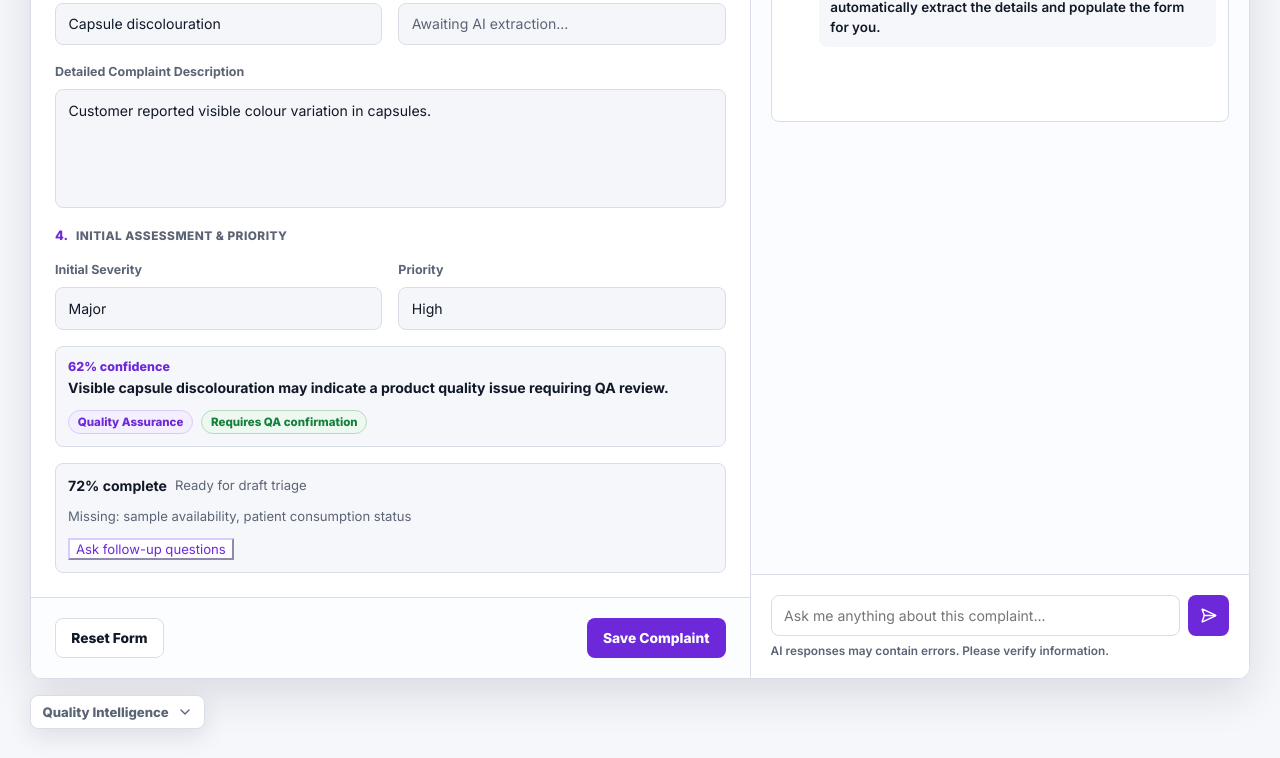
Test case: App › containment simulator opens from Batch Intelligence and stays simulation-only
(page scrolled)
Click the button "Quality Intelligence".
click(118, 712)  # box [30,694,205,729]
(page scrolled)
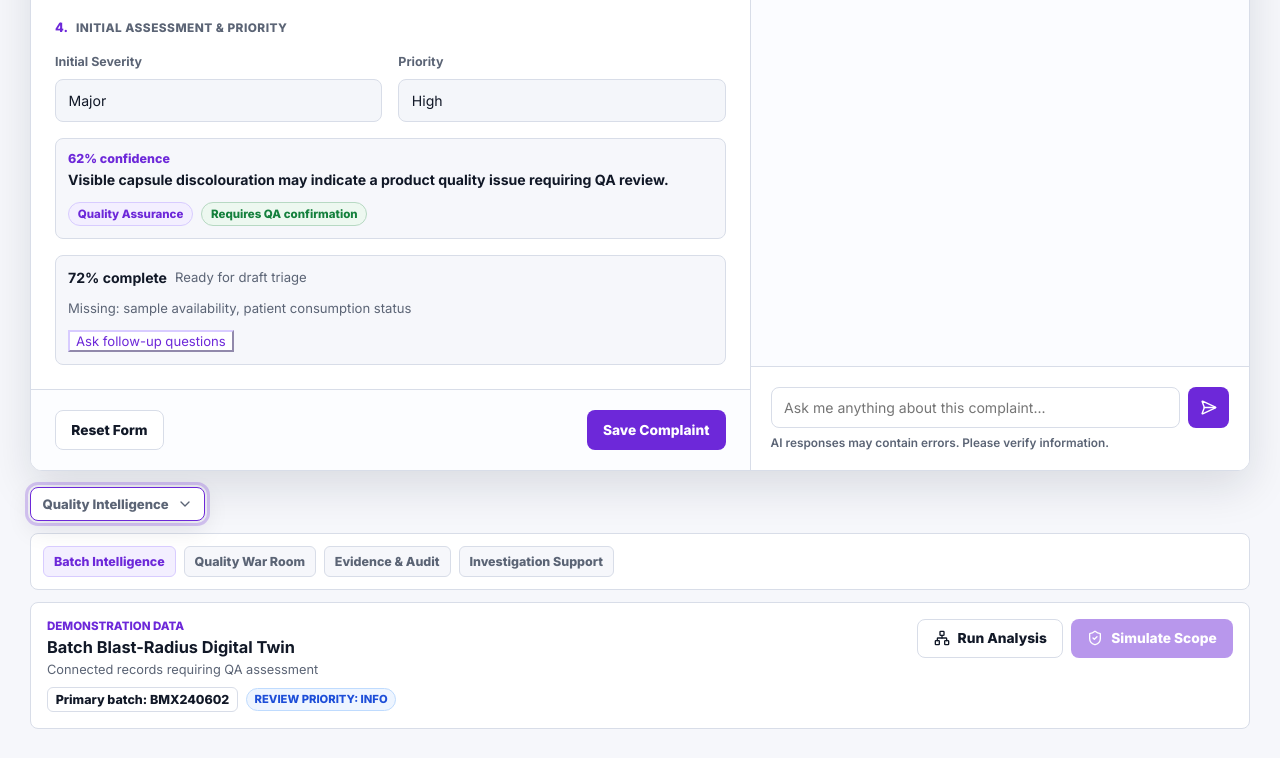
Click the button "Run Analysis".
click(990, 638)  # box [917,619,1063,658]
(page scrolled)
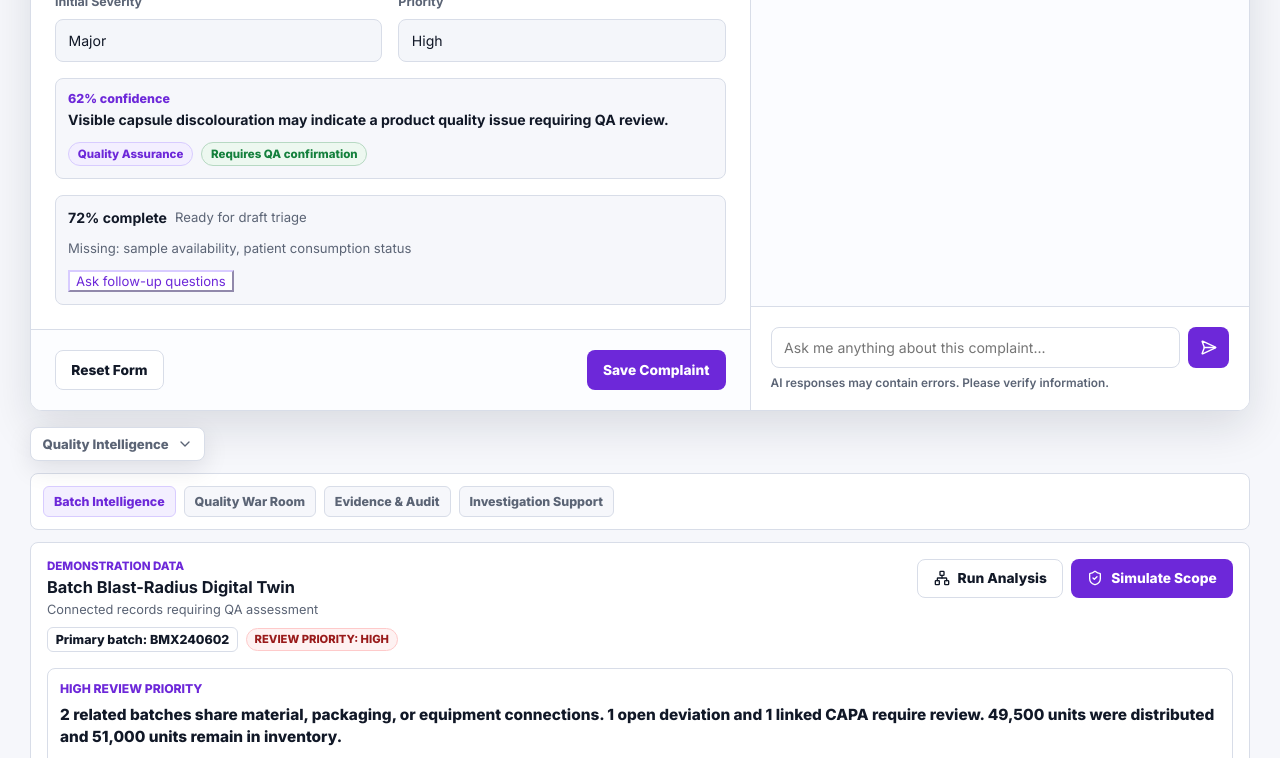
Click the button "Simulate Scope".
click(1152, 578)  # box [1071,559,1233,598]
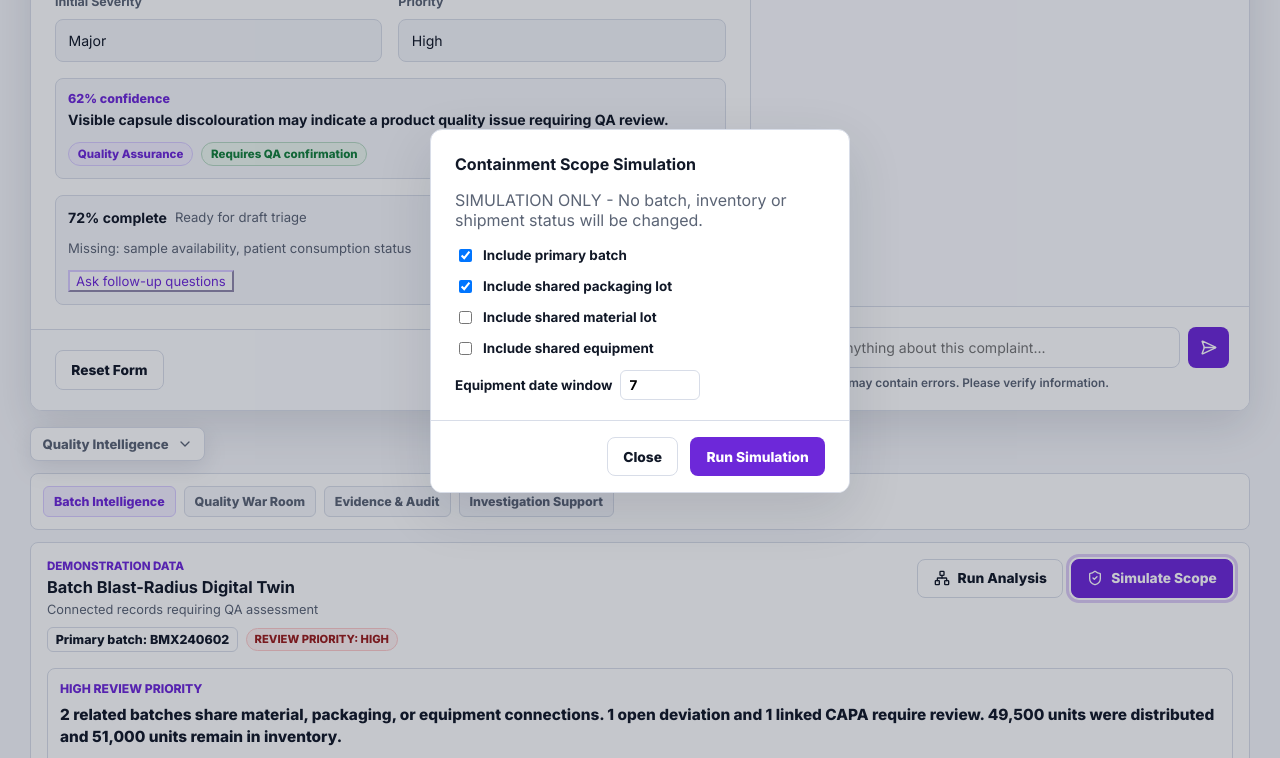
Check: the dialog "Containment Scope Simulation" shows "SIMULATION ONLY", box [455,190,787,230]
Click the button "Run Simulation".
click(758, 457)  # box [690,437,825,476]
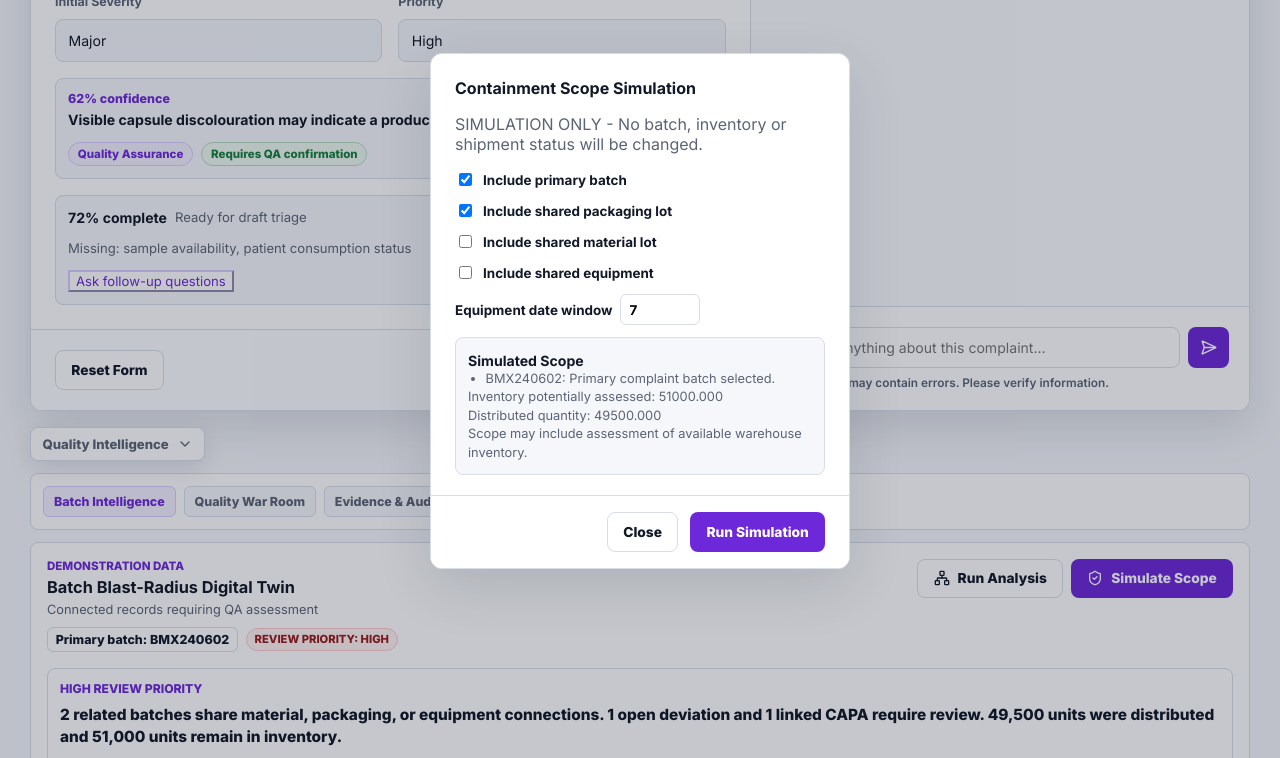
Check: the element with test id "containment-simulation-result" shows "BMX240602", box [486,371,562,386]
